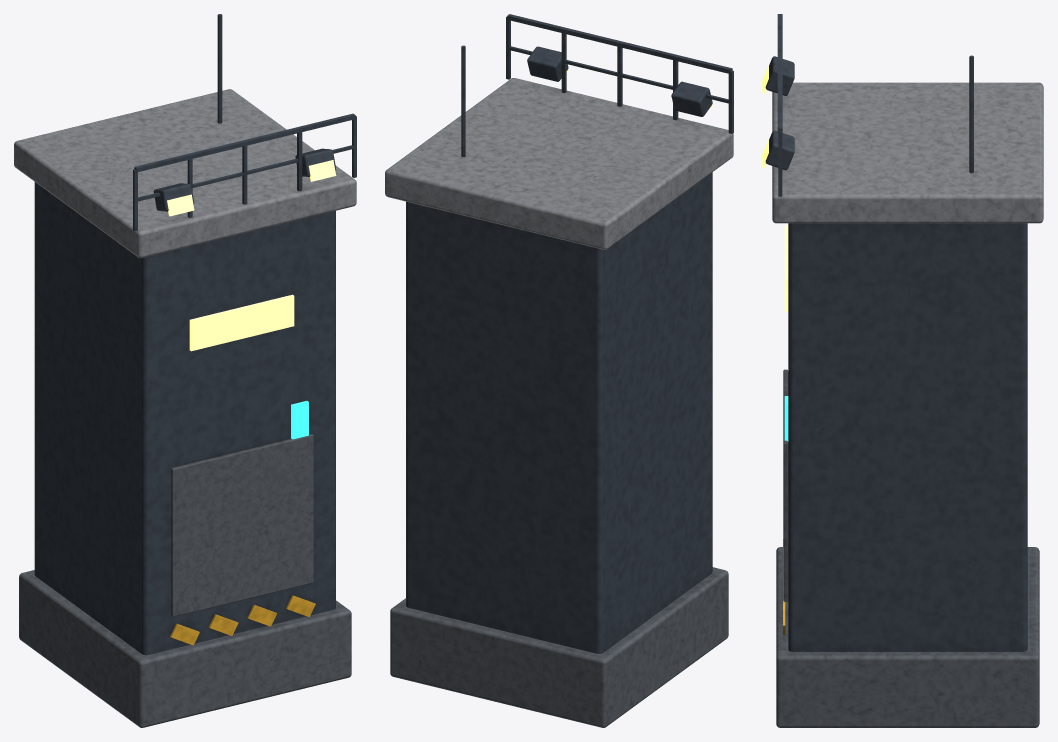
Rendered from gate_tower.glb.
3 views of the same model, side by side, from view 1: azimuth 30°, elevation 25°; view 2: azimuth 150°, elevation 25°; view 3: azimuth 270°, elevation 25° (orthographic). The views are drawn at different scales.
Visible parts, largest first — view 1: Prop_gate_tower; view 2: Prop_gate_tower; view 3: Prop_gate_tower.
Part boxes in pixels (left/top/right/bottom): Prop_gate_tower: left=14, top=14, right=356, bottom=727; Prop_gate_tower: left=385, top=14, right=733, bottom=727; Prop_gate_tower: left=762, top=14, right=1043, bottom=727.
Size of the model in its own units: 3.45 by 9 by 3.52.
6 materials, 4 textured.
